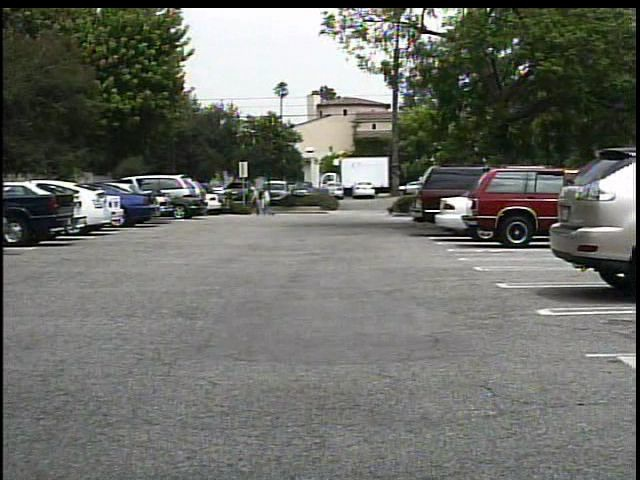person: (247, 184, 263, 216), (263, 184, 277, 217), (257, 185, 269, 216)
